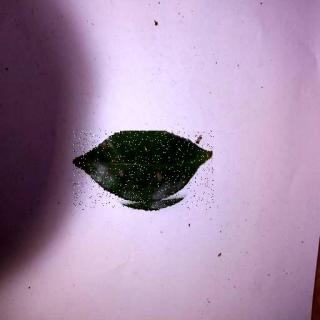Anthracnose: (75, 132, 215, 211)
